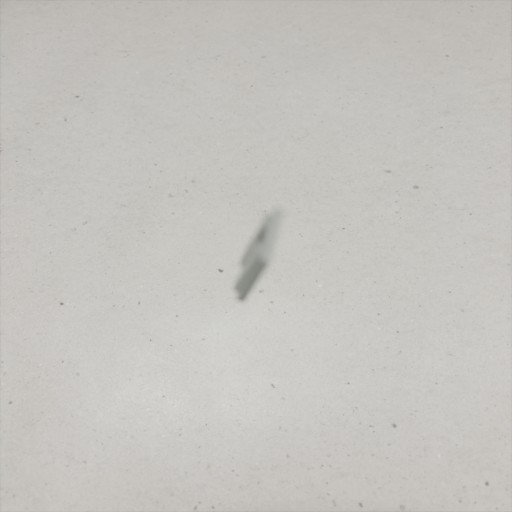lego: (232, 206, 285, 303)
